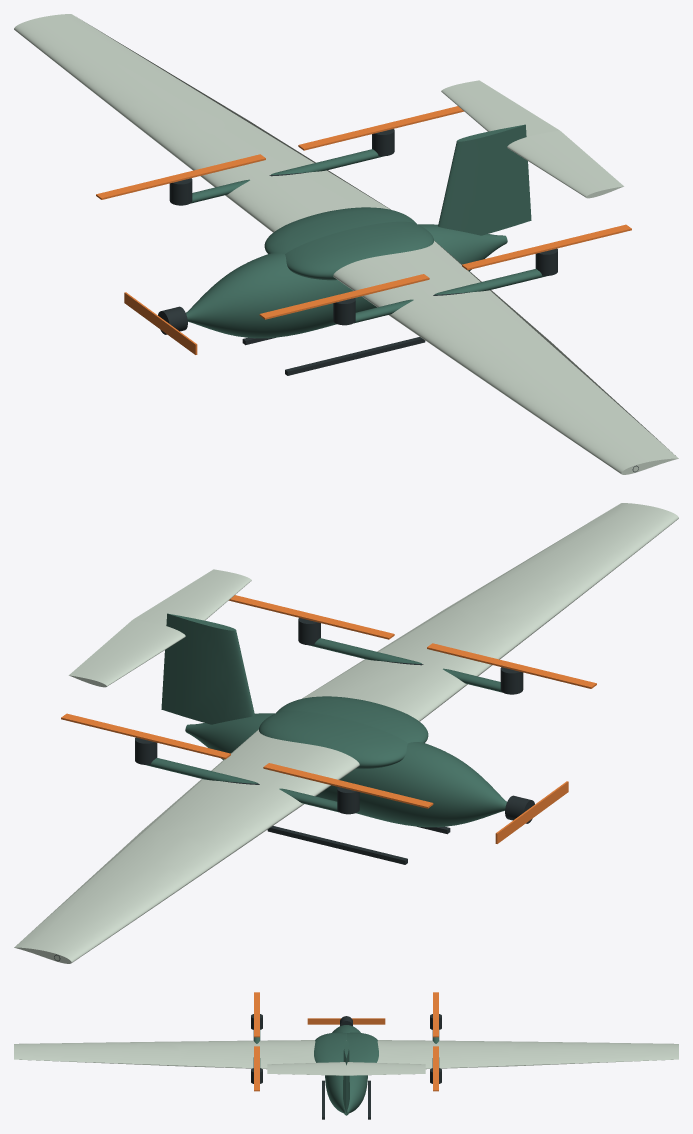
The model's file is surface_tools-06-model.glb.
The picture shows the model from 3 angles, top to bottom: view 1: azimuth 30°, elevation 25°; view 2: azimuth 150°, elevation 25°; view 3: azimuth 270°, elevation 25°; orthographic projection. The views are drawn at different scales.
Parts seen in each view (by area): view 1: wing-1, wing1, fuselage, fin, root_fairing-1, tail-1, root_fairing1, tail1, boom_fairing-1, boom_fairing1, prop_-1_200.0, prop_-1_700.0 (+4 smaller); view 2: wing1, wing-1, fuselage, fin, root_fairing1, tail1, root_fairing-1, tail-1, boom_fairing1, boom_fairing-1, prop_1_200.0, prop_1_700.0 (+4 smaller); view 3: wing-1, wing1, fuselage, tail-1, tail1, root_fairing-1, root_fairing1, cruise_prop, fin, prop_-1_200.0, prop_-1_700.0, prop_1_200.0 (+1 smaller).
Boxes of the visible parts, bbox=[...] form: wing-1: bbox=[333, 240, 678, 474]; wing1: bbox=[14, 14, 390, 232]; fuselage: bbox=[186, 224, 507, 338]; fin: bbox=[438, 124, 531, 235]; root_fairing-1: bbox=[285, 221, 433, 280]; tail-1: bbox=[507, 130, 623, 198]; root_fairing1: bbox=[264, 207, 416, 254]; tail1: bbox=[441, 80, 559, 136]; boom_fairing-1: bbox=[354, 269, 546, 323]; boom_fairing1: bbox=[190, 149, 383, 203]; prop_-1_200.0: bbox=[259, 274, 429, 319]; prop_-1_700.0: bbox=[462, 224, 631, 270]; wing1: bbox=[14, 729, 359, 963]; wing-1: bbox=[302, 503, 678, 721]; fuselage: bbox=[185, 713, 506, 827]; fin: bbox=[161, 613, 254, 724]; root_fairing1: bbox=[259, 710, 407, 769]; tail1: bbox=[69, 619, 185, 687]; root_fairing-1: bbox=[276, 696, 428, 743]; tail-1: bbox=[133, 569, 251, 625]; boom_fairing1: bbox=[146, 758, 338, 812]; boom_fairing-1: bbox=[309, 638, 502, 692]; prop_1_200.0: bbox=[263, 763, 433, 808]; prop_1_700.0: bbox=[61, 713, 230, 759]; wing-1: bbox=[14, 1040, 315, 1069]; wing1: bbox=[377, 1040, 678, 1069]; fuselage: bbox=[325, 1025, 367, 1115]; tail-1: bbox=[267, 1062, 346, 1075]; tail1: bbox=[346, 1062, 425, 1075]; root_fairing-1: bbox=[314, 1032, 346, 1062]; root_fairing1: bbox=[346, 1032, 378, 1062]; cruise_prop: bbox=[307, 1018, 385, 1024]; fin: bbox=[343, 1040, 349, 1112]; prop_-1_200.0: bbox=[254, 992, 259, 1037]; prop_-1_700.0: bbox=[254, 1046, 259, 1091]; prop_1_200.0: bbox=[433, 992, 438, 1037].
Size of the model in its own units: 989 by 405 by 2600.
